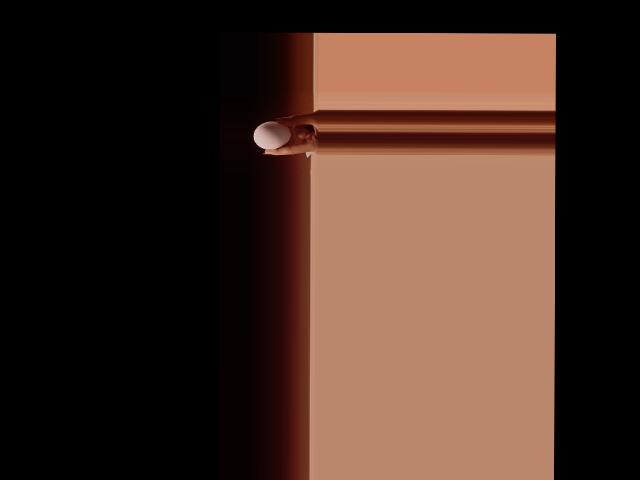egg: (253, 120, 291, 149)
